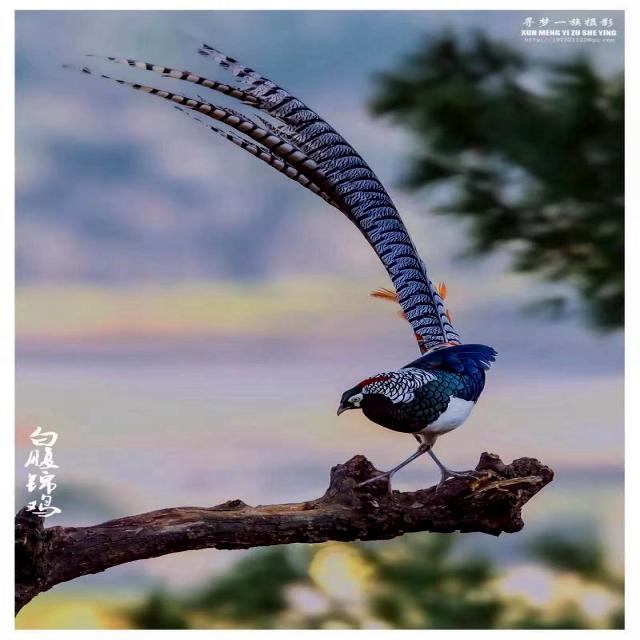Chrysolophus amherstiae: (72, 45, 458, 350)
